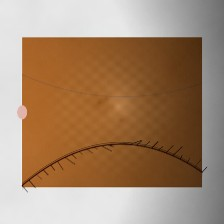hemorrhage_spot: (75, 85, 137, 134)
